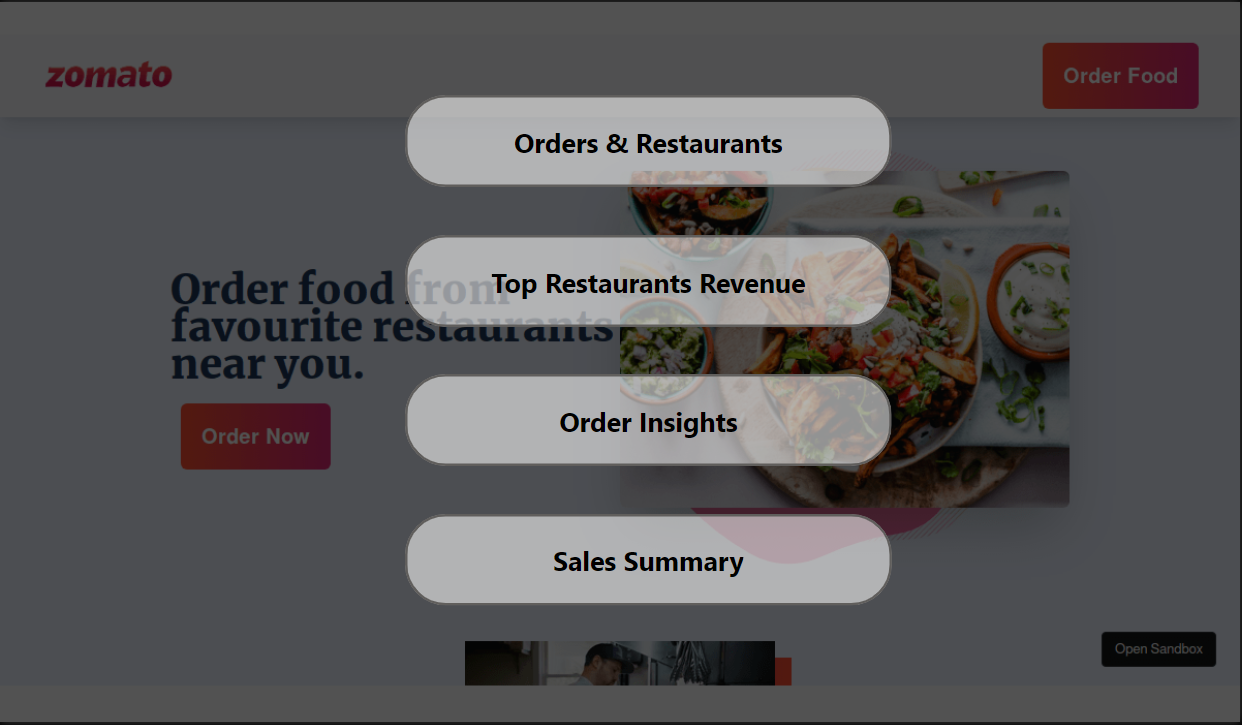

What the dashboard file says about the page in this screenshot:
{"tool":"powerbi","page":{"name":"Home page","canvas":[1550,900],"ordinal":4},"visuals":[{"type":"actionButton","title":"Orders & Restaurants","box":[506.2,116.2,608.3,115],"z":0},{"type":"actionButton","box":[506.2,290.8,608.3,115],"z":1000},{"type":"actionButton","box":[506.2,465.4,608.3,115],"z":2000},{"type":"actionButton","box":[505.7,640,608.6,114.3],"z":3000}]}

Visuals, with their boxes on the page's 1550x900 design canvas (x1, y1, x2, y2). These are canvas units, not pixel positions in the 1242x725 screenshot, which may show the page scaled, cropped or inside an application window:
"Orders & Restaurants" actionButton: <region>506, 116, 1114, 231</region>
actionButton: <region>506, 291, 1114, 406</region>
actionButton: <region>506, 465, 1114, 580</region>
actionButton: <region>506, 640, 1114, 754</region>
